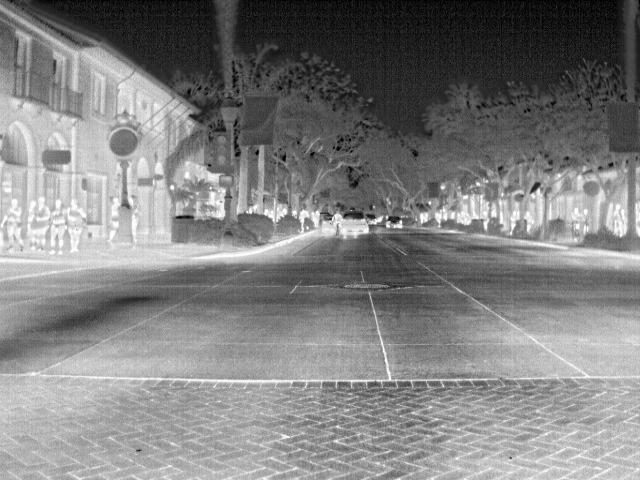car: (339, 209, 368, 236), (384, 214, 404, 228), (365, 215, 379, 226)
person: (1, 197, 29, 254), (49, 199, 68, 256), (68, 199, 86, 256), (30, 195, 47, 254), (106, 196, 124, 243), (129, 194, 143, 244), (578, 206, 594, 234), (569, 206, 583, 236), (506, 208, 519, 234), (523, 209, 536, 234)
